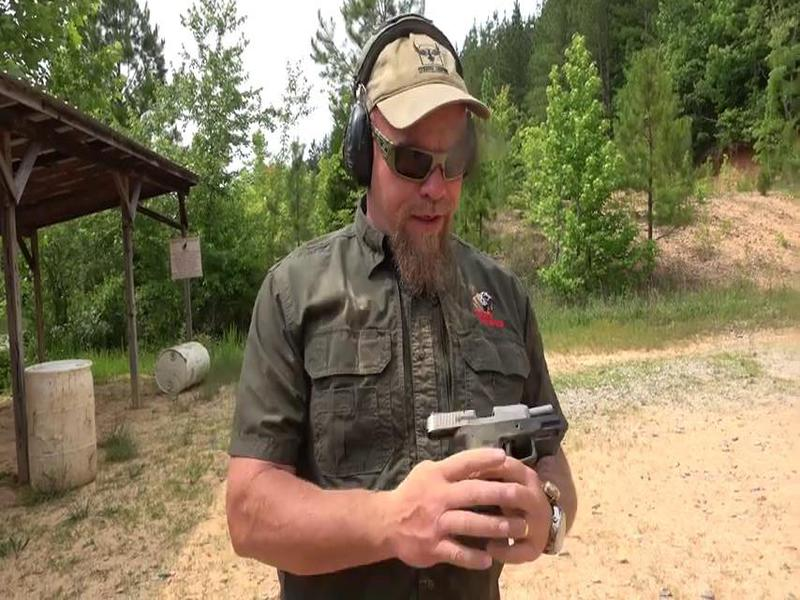Pistola: (407, 367, 592, 554)
